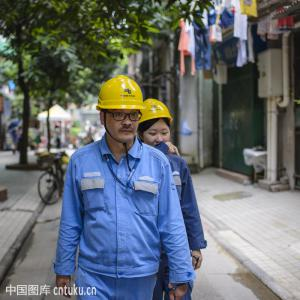yellow: (98, 74, 146, 145), (137, 98, 172, 151)
